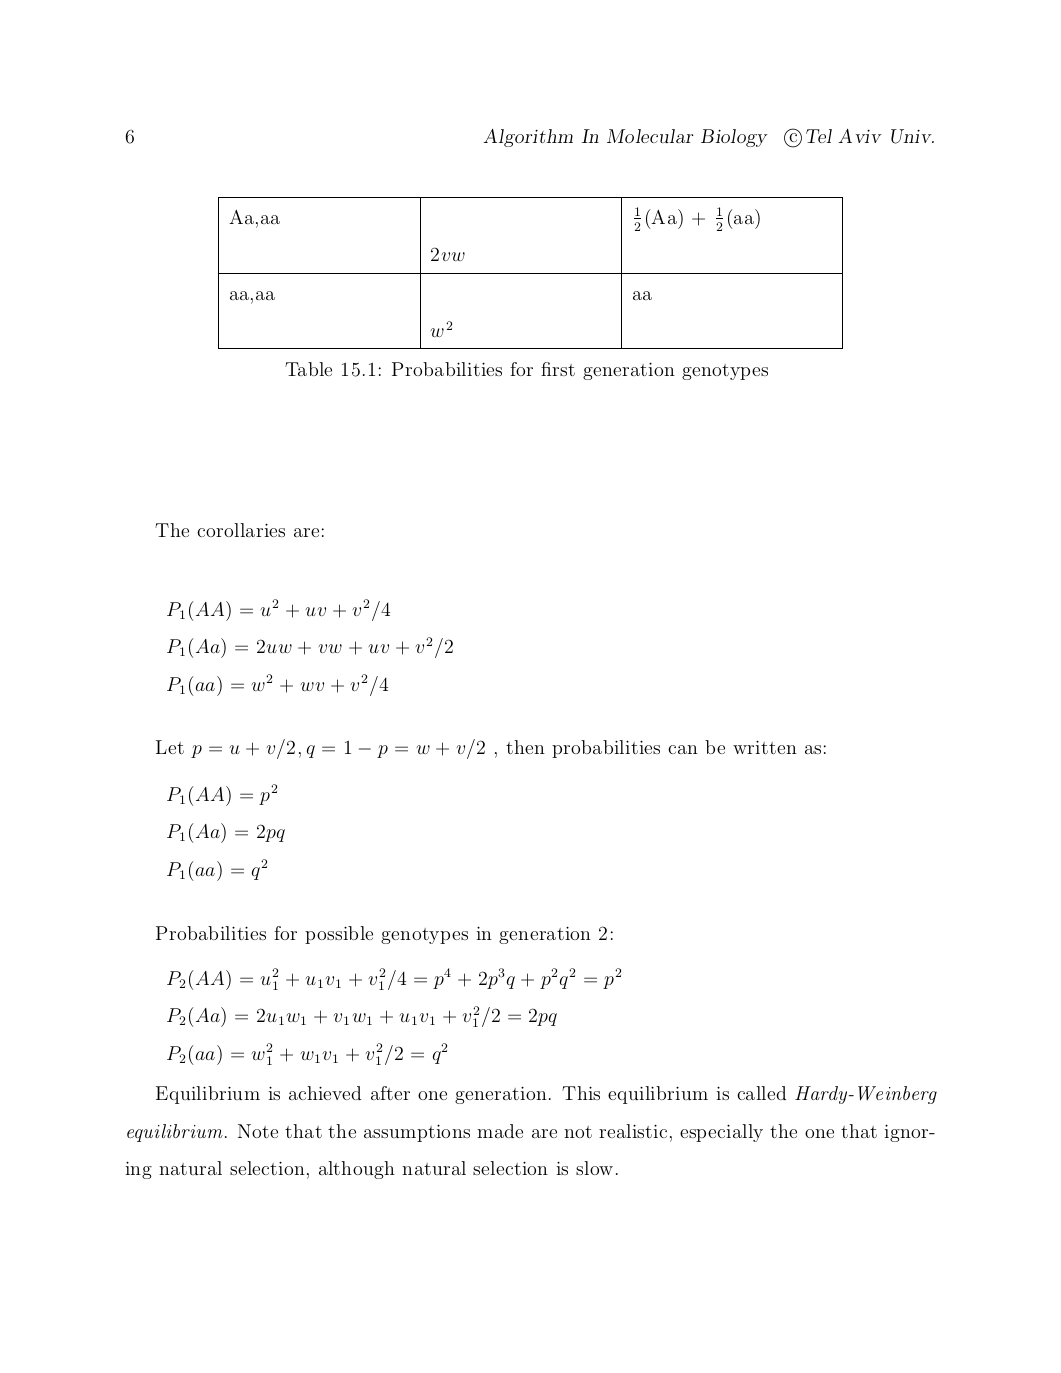Table: (218, 195, 841, 349)
formula: (167, 967, 621, 990), (167, 1005, 556, 1028), (167, 1042, 447, 1065), (167, 636, 452, 658), (167, 672, 388, 697), (167, 598, 390, 621), (167, 782, 278, 806), (167, 822, 284, 843), (167, 858, 267, 882)
